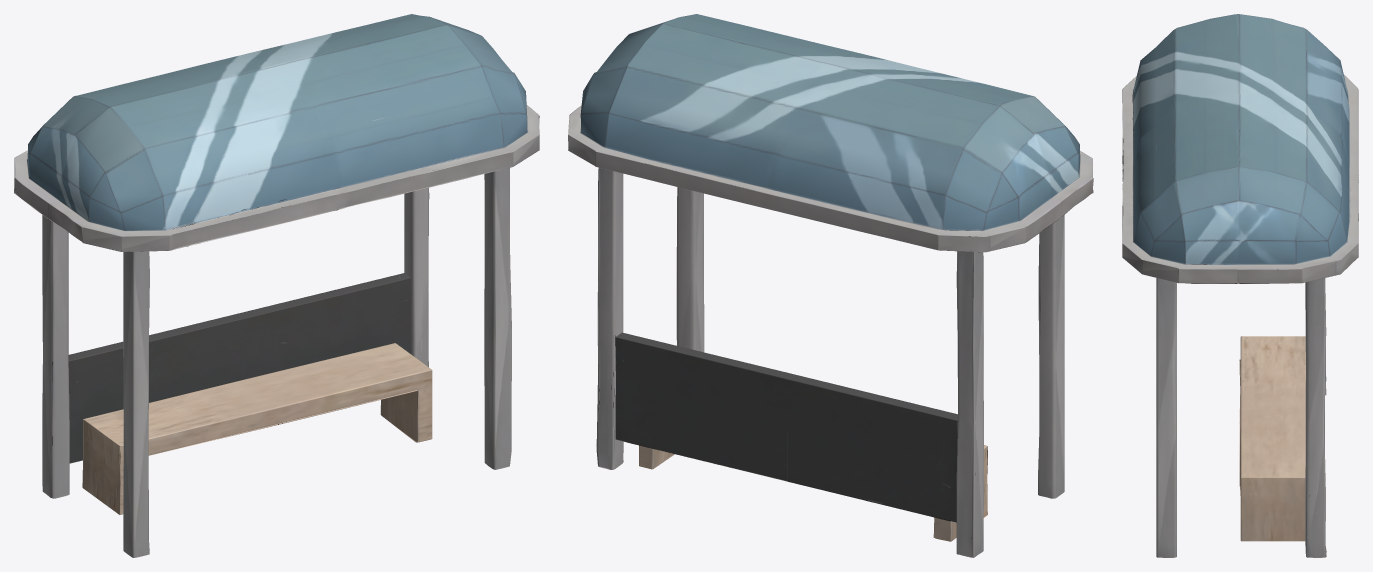
Rendered from 37-bus-stop-shelter.glb.
3 renders of one model, left to right at view 1: azimuth 30°, elevation 25°; view 2: azimuth 150°, elevation 25°; view 3: azimuth 270°, elevation 25°, orthographic. The views are drawn at different scales.
Visible parts, largest first — view 1: geometry_0; view 2: geometry_0; view 3: geometry_0.
Part boxes in pixels (left/top/right/bottom): geometry_0: left=14, top=14, right=539, bottom=557; geometry_0: left=568, top=14, right=1093, bottom=557; geometry_0: left=1122, top=14, right=1358, bottom=557.
Size of the model in its own units: 0.9575 by 0.8232 by 0.46.
Materials: 1 (1 with a texture image).
